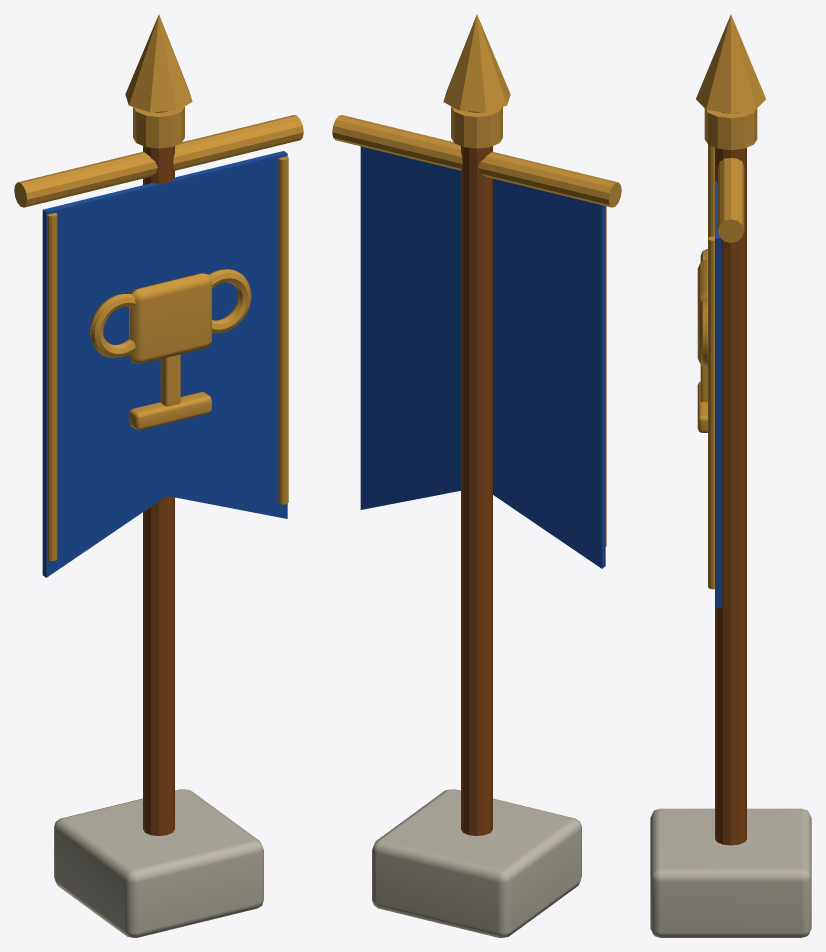
Rendered from 55_banner_trophy.glb.
The picture shows the model from 3 angles, left to right: view 1: azimuth 30°, elevation 25°; view 2: azimuth 150°, elevation 25°; view 3: azimuth 270°, elevation 25°; orthographic projection.
Parts seen in each view (by area): view 1: Royal blue fabric, Flag stone socket, Flagpole, Banner crossbar, Cup bowl, Banner border.001, Banner border, Flag finial, Flagpole brass collar, Cup foot, Cup handle, Cup handle.001 (+1 smaller); view 2: Royal blue fabric, Flag stone socket, Flagpole, Banner crossbar, Flag finial, Flagpole brass collar, Banner border; view 3: Flag stone socket, Flagpole, Flag finial, Royal blue fabric, Banner border.001, Banner crossbar, Flagpole brass collar, Cup bowl, Banner border, Cup handle.001, Cup foot.
Boxes of the visible parts, x1=… form: Royal blue fabric: x1=42, y1=151, x2=287, y2=577; Flag stone socket: x1=54, y1=789, x2=263, y2=937; Flagpole: x1=143, y1=111, x2=174, y2=835; Banner crossbar: x1=14, y1=115, x2=303, y2=207; Cup bowl: x1=129, y1=273, x2=211, y2=363; Banner border.001: x1=278, y1=156, x2=288, y2=504; Banner border: x1=47, y1=213, x2=57, y2=560; Flag finial: x1=125, y1=14, x2=192, y2=112; Flagpole brass collar: x1=133, y1=106, x2=184, y2=148; Cup foot: x1=129, y1=392, x2=211, y2=430; Cup handle: x1=90, y1=294, x2=135, y2=357; Cup handle.001: x1=209, y1=269, x2=251, y2=333; Royal blue fabric: x1=360, y1=146, x2=605, y2=568; Flag stone socket: x1=372, y1=789, x2=581, y2=937; Flagpole: x1=461, y1=111, x2=492, y2=835; Banner crossbar: x1=332, y1=115, x2=621, y2=207; Flag finial: x1=443, y1=14, x2=510, y2=112; Flagpole brass collar: x1=451, y1=106, x2=502, y2=148; Banner border: x1=605, y1=206, x2=606, y2=546; Flag stone socket: x1=650, y1=808, x2=811, y2=937; Flagpole: x1=715, y1=112, x2=746, y2=845; Flag finial: x1=696, y1=14, x2=765, y2=113; Royal blue fabric: x1=715, y1=179, x2=722, y2=608; Banner border.001: x1=708, y1=236, x2=714, y2=589; Banner crossbar: x1=717, y1=158, x2=744, y2=242; Flagpole brass collar: x1=704, y1=108, x2=757, y2=149; Cup bowl: x1=697, y1=259, x2=707, y2=366; Banner border: x1=708, y1=144, x2=714, y2=238; Cup handle.001: x1=700, y1=298, x2=707, y2=367; Cup foot: x1=697, y1=381, x2=707, y2=432.
Bounding box in the file's own units: 1.1 × 3.36 × 0.55.
